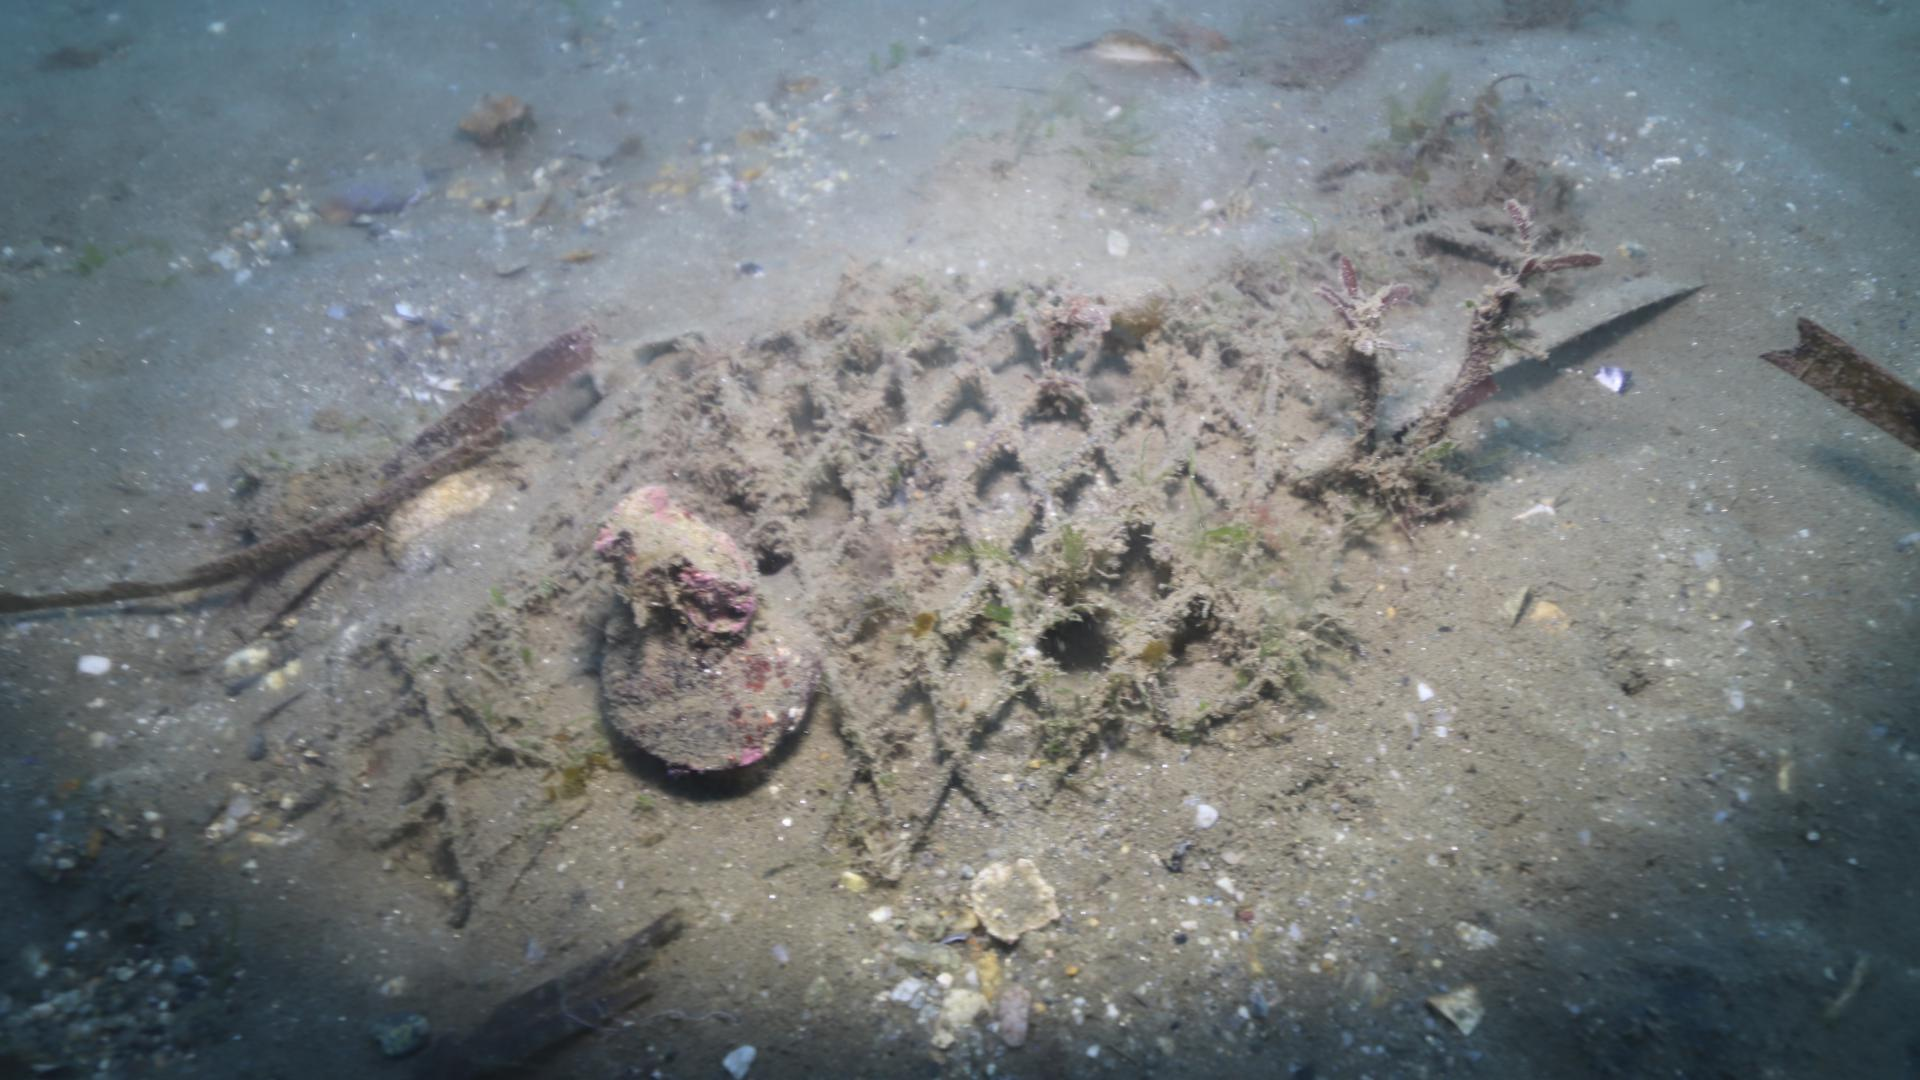fish net: (351, 280, 1364, 869)
